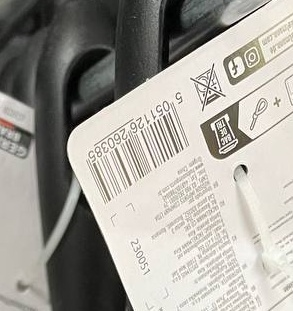1d: (84, 105, 192, 206)
